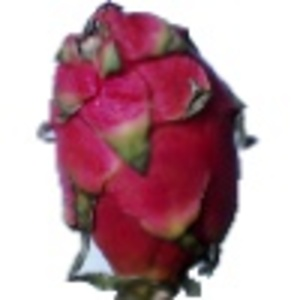pitaia: (38, 1, 262, 300)
